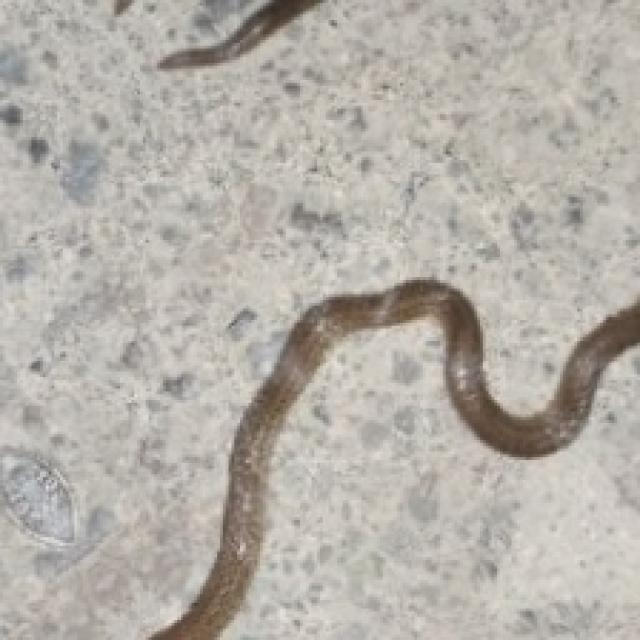gervais worm snake: (150, 279, 640, 639), (159, 0, 321, 68)
